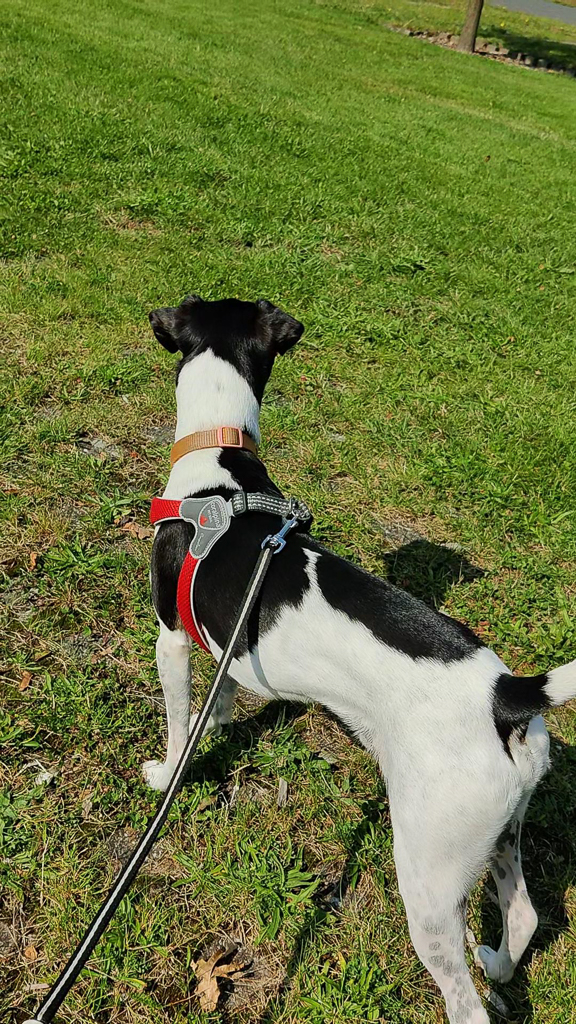Dog: (124, 252, 576, 1024)
